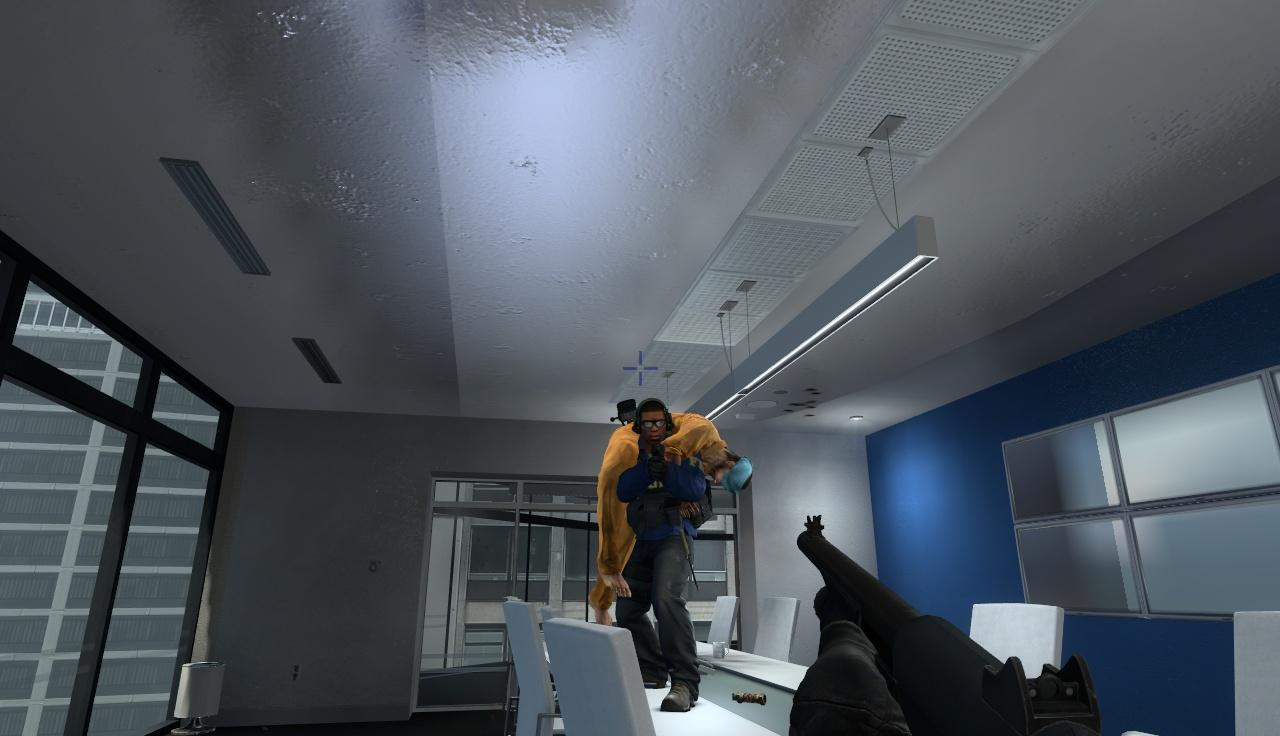ct: (614, 396, 705, 710)
cthead: (637, 397, 672, 440)
shotgun: (795, 513, 1103, 736)
